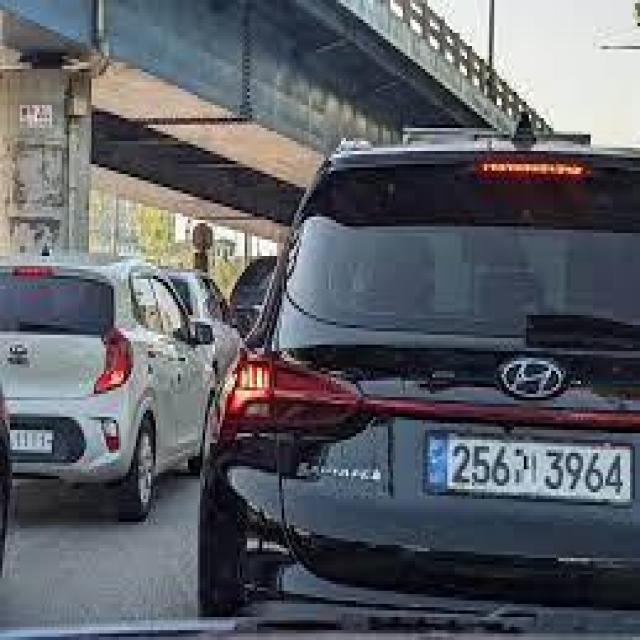car: (193, 125, 640, 640)
illegal_plate: (424, 428, 636, 514)
